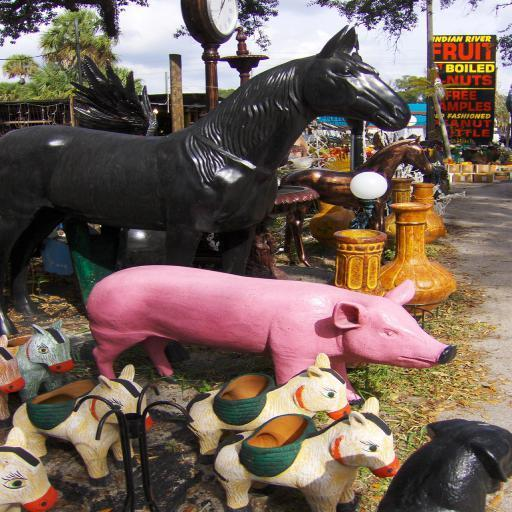horse: (0, 22, 413, 337), (211, 395, 400, 511), (278, 132, 436, 270), (186, 353, 354, 467), (12, 364, 153, 488), (0, 426, 60, 512), (17, 320, 75, 398), (0, 333, 27, 430)
